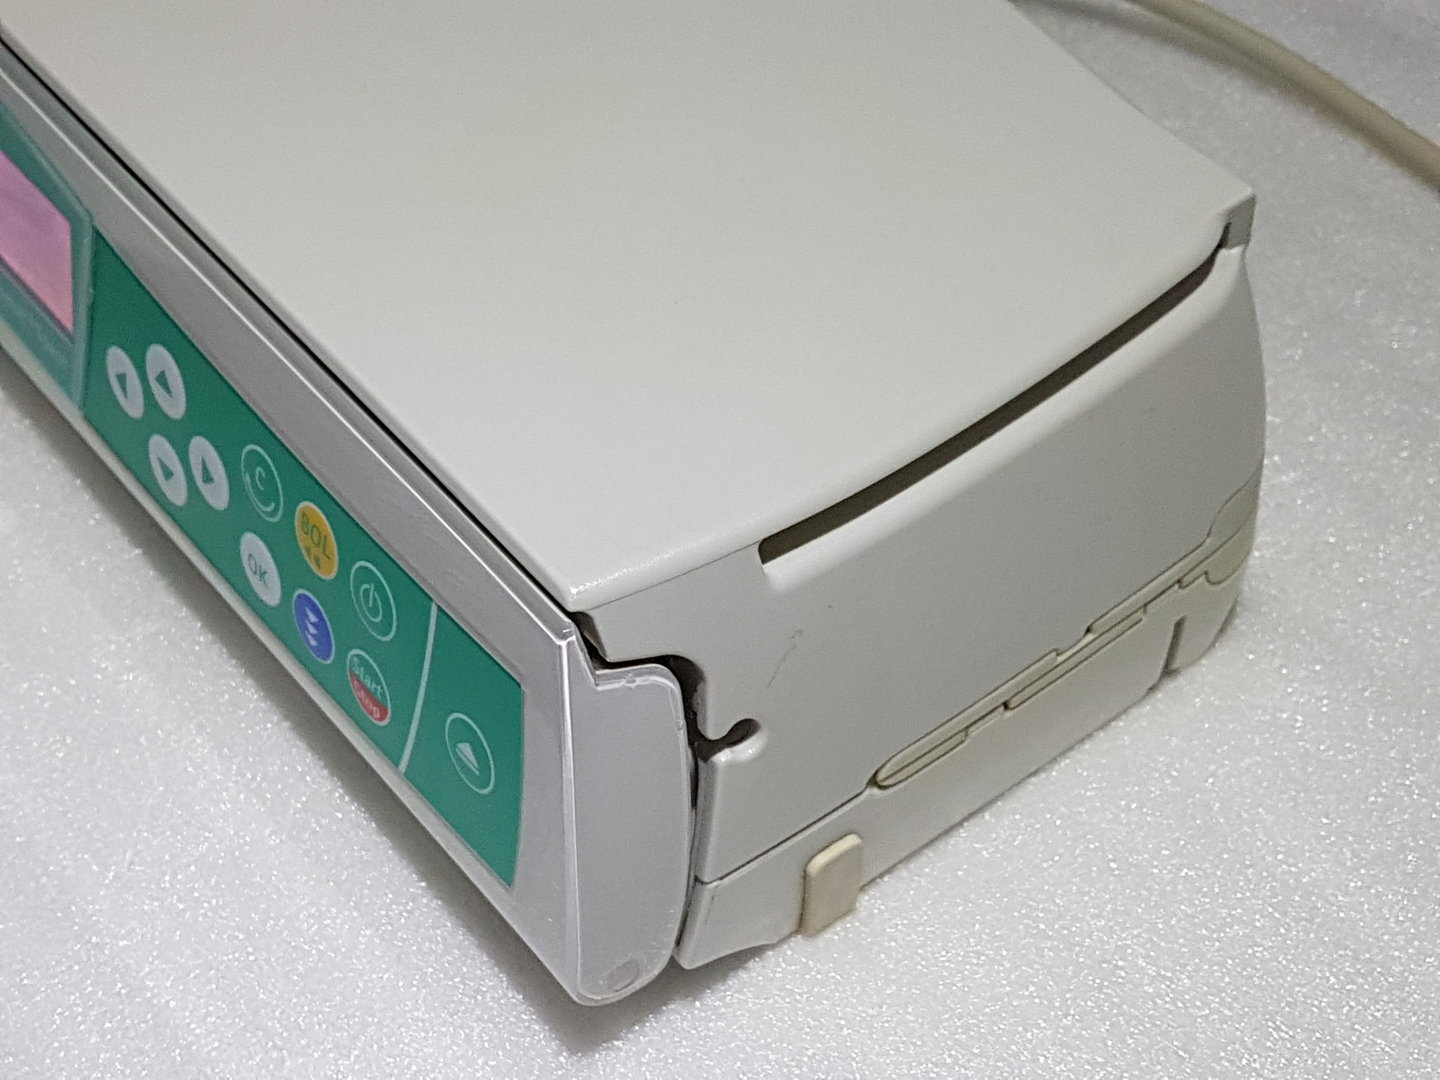BBraun Infusomat Space: (1, 1, 1257, 1014)
